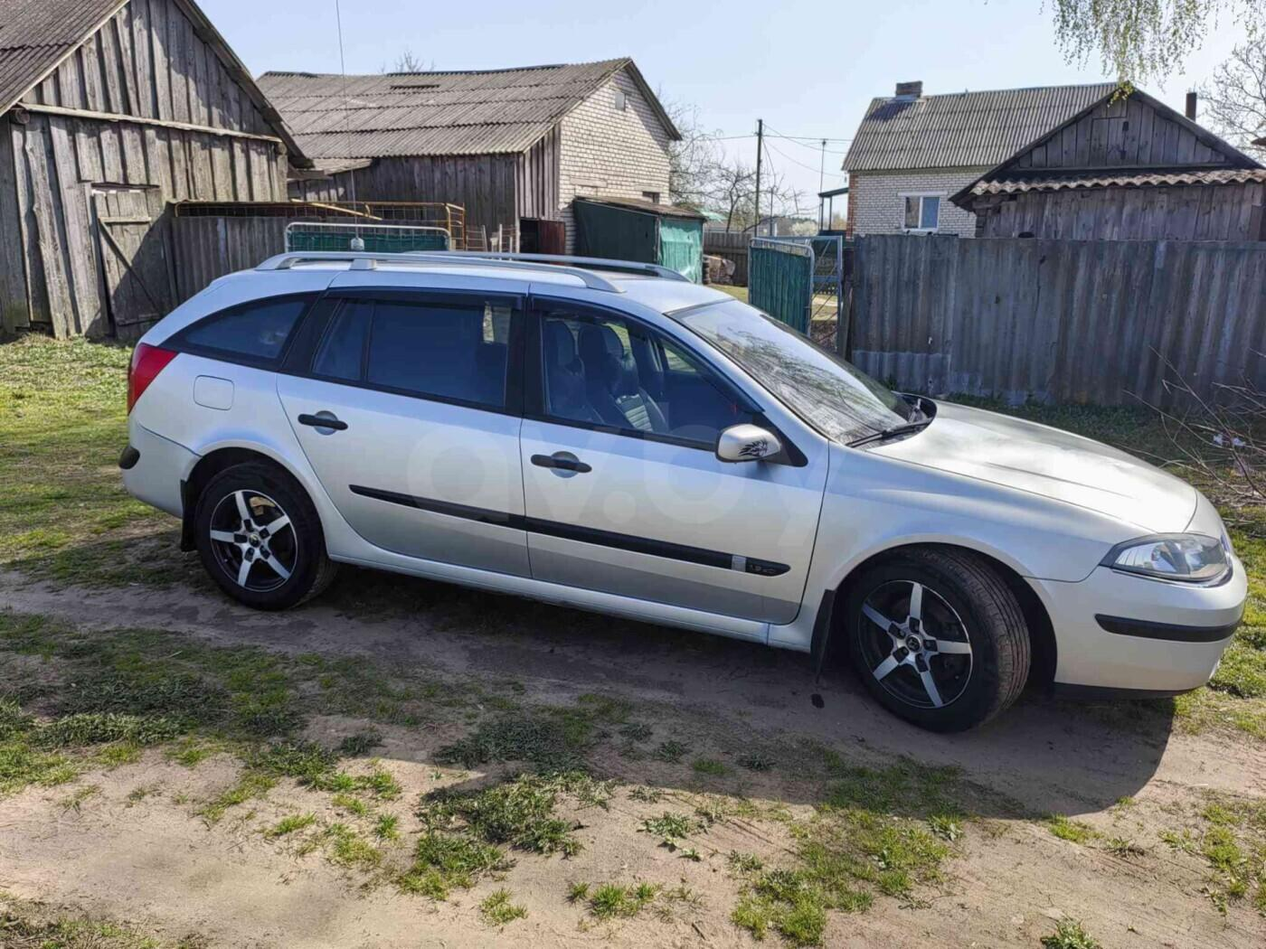Laguna_2005-2007: (112, 240, 1249, 746)
